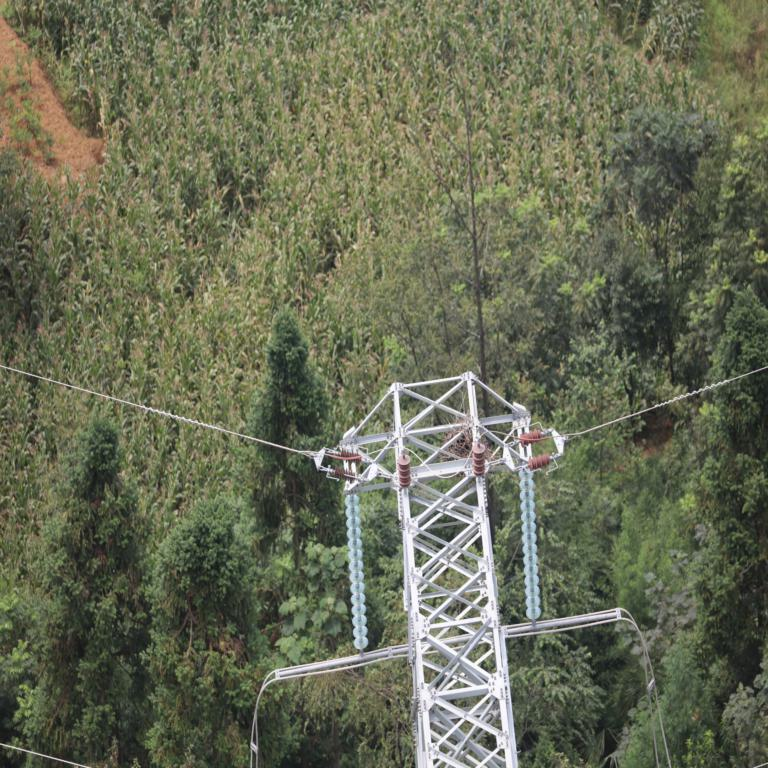nest: (440, 429, 494, 462)
